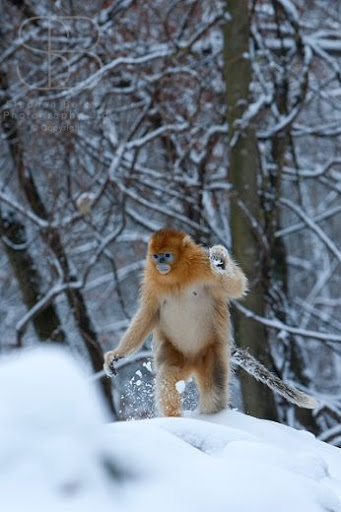GoldenSnub-Nosed: (97, 217, 261, 424)
